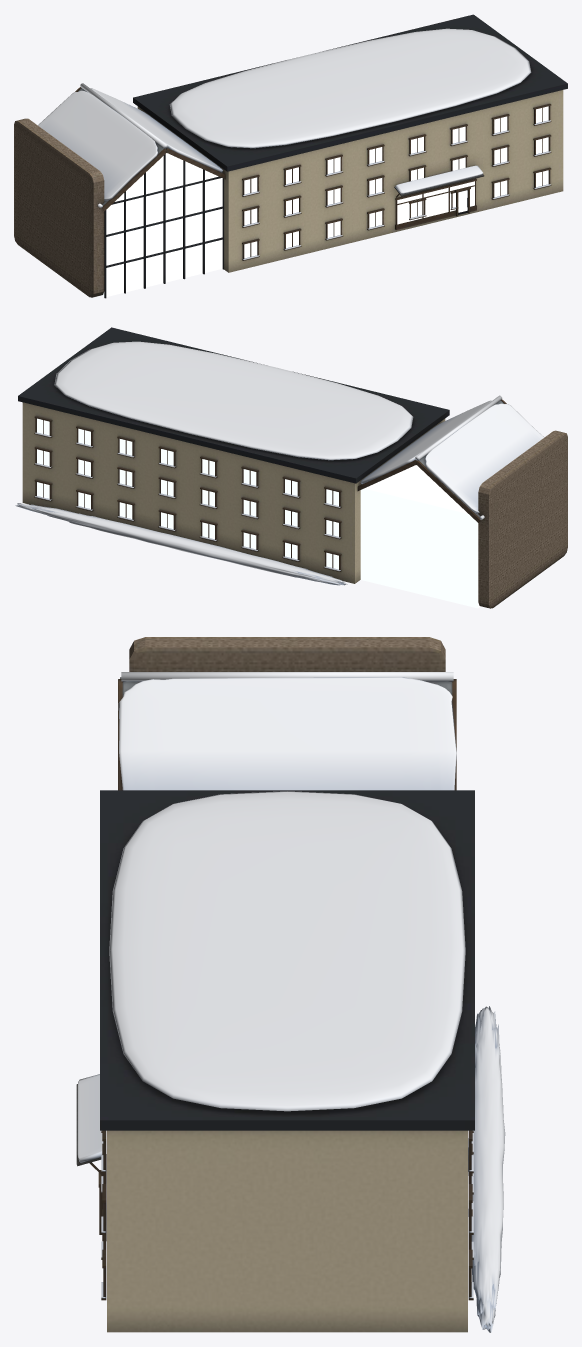
The model's file is goldminers_daughter.glb.
3 renders of one model, top to bottom at view 1: azimuth 30°, elevation 25°; view 2: azimuth 150°, elevation 25°; view 3: azimuth 270°, elevation 25°, orthographic. The views are drawn at different scales.
Parts seen in each view (by area): view 1: goldminers_daughter, goldminers_daughter_snow, goldminers_daughter_lit; view 2: goldminers_daughter, goldminers_daughter_snow, goldminers_daughter_lit; view 3: goldminers_daughter_snow, goldminers_daughter.
Part boxes in pixels (box(x1,y1,x2,y2)): goldminers_daughter: box(14, 14, 567, 298); goldminers_daughter_snow: box(38, 28, 550, 260); goldminers_daughter_lit: box(102, 106, 548, 296); goldminers_daughter: box(18, 327, 567, 608); goldminers_daughter_snow: box(15, 341, 544, 585); goldminers_daughter_lit: box(37, 418, 480, 608); goldminers_daughter_snow: box(77, 672, 505, 1332); goldminers_daughter: box(76, 637, 474, 1332).
Size of the model in its own units: 47.5 by 13.91 by 18.98.
4 materials, 1 textured.
